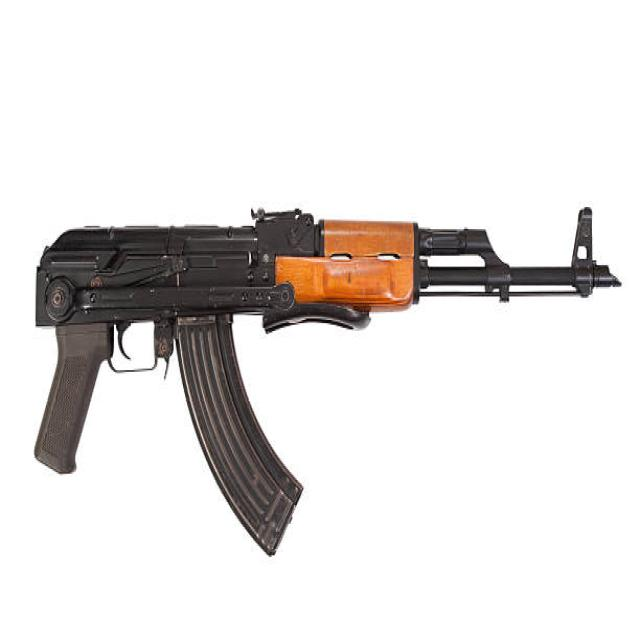rifle: (23, 188, 629, 570)
